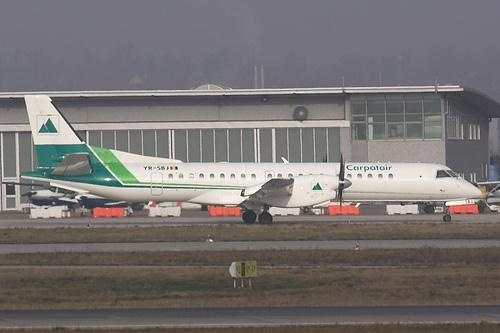aeroplane: (21, 94, 489, 226)
